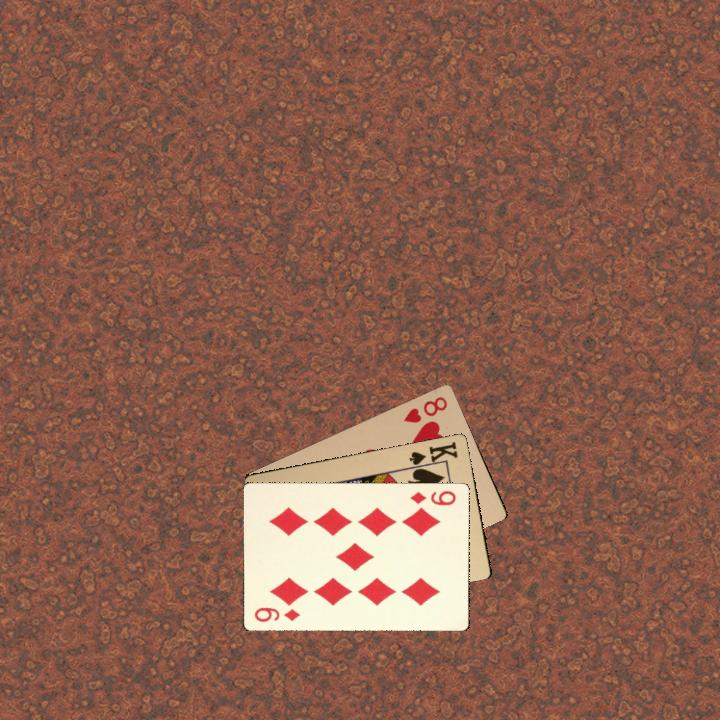8h: (400, 393, 450, 426)
9d: (406, 486, 458, 508), (250, 603, 303, 624)
Ks: (406, 437, 460, 472)
